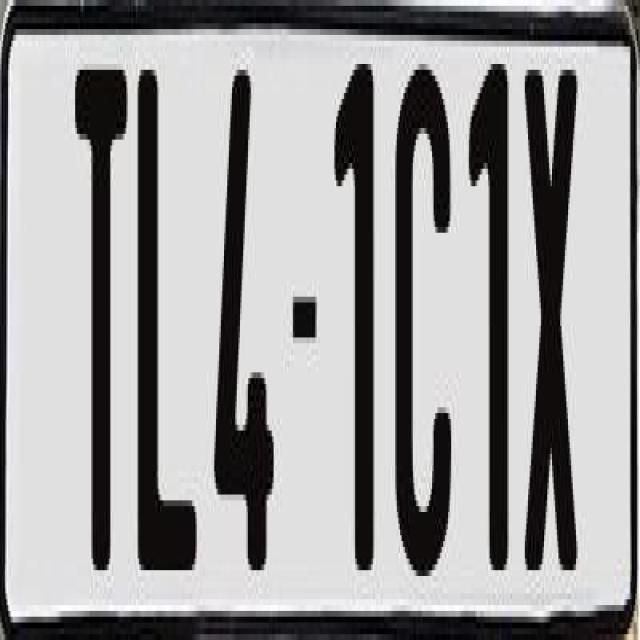1: (334, 64, 380, 570), (468, 52, 511, 582)
4: (214, 58, 278, 570)
C: (390, 58, 450, 599)
L: (138, 58, 202, 570)
T: (72, 70, 125, 582)
X: (522, 64, 578, 576)
